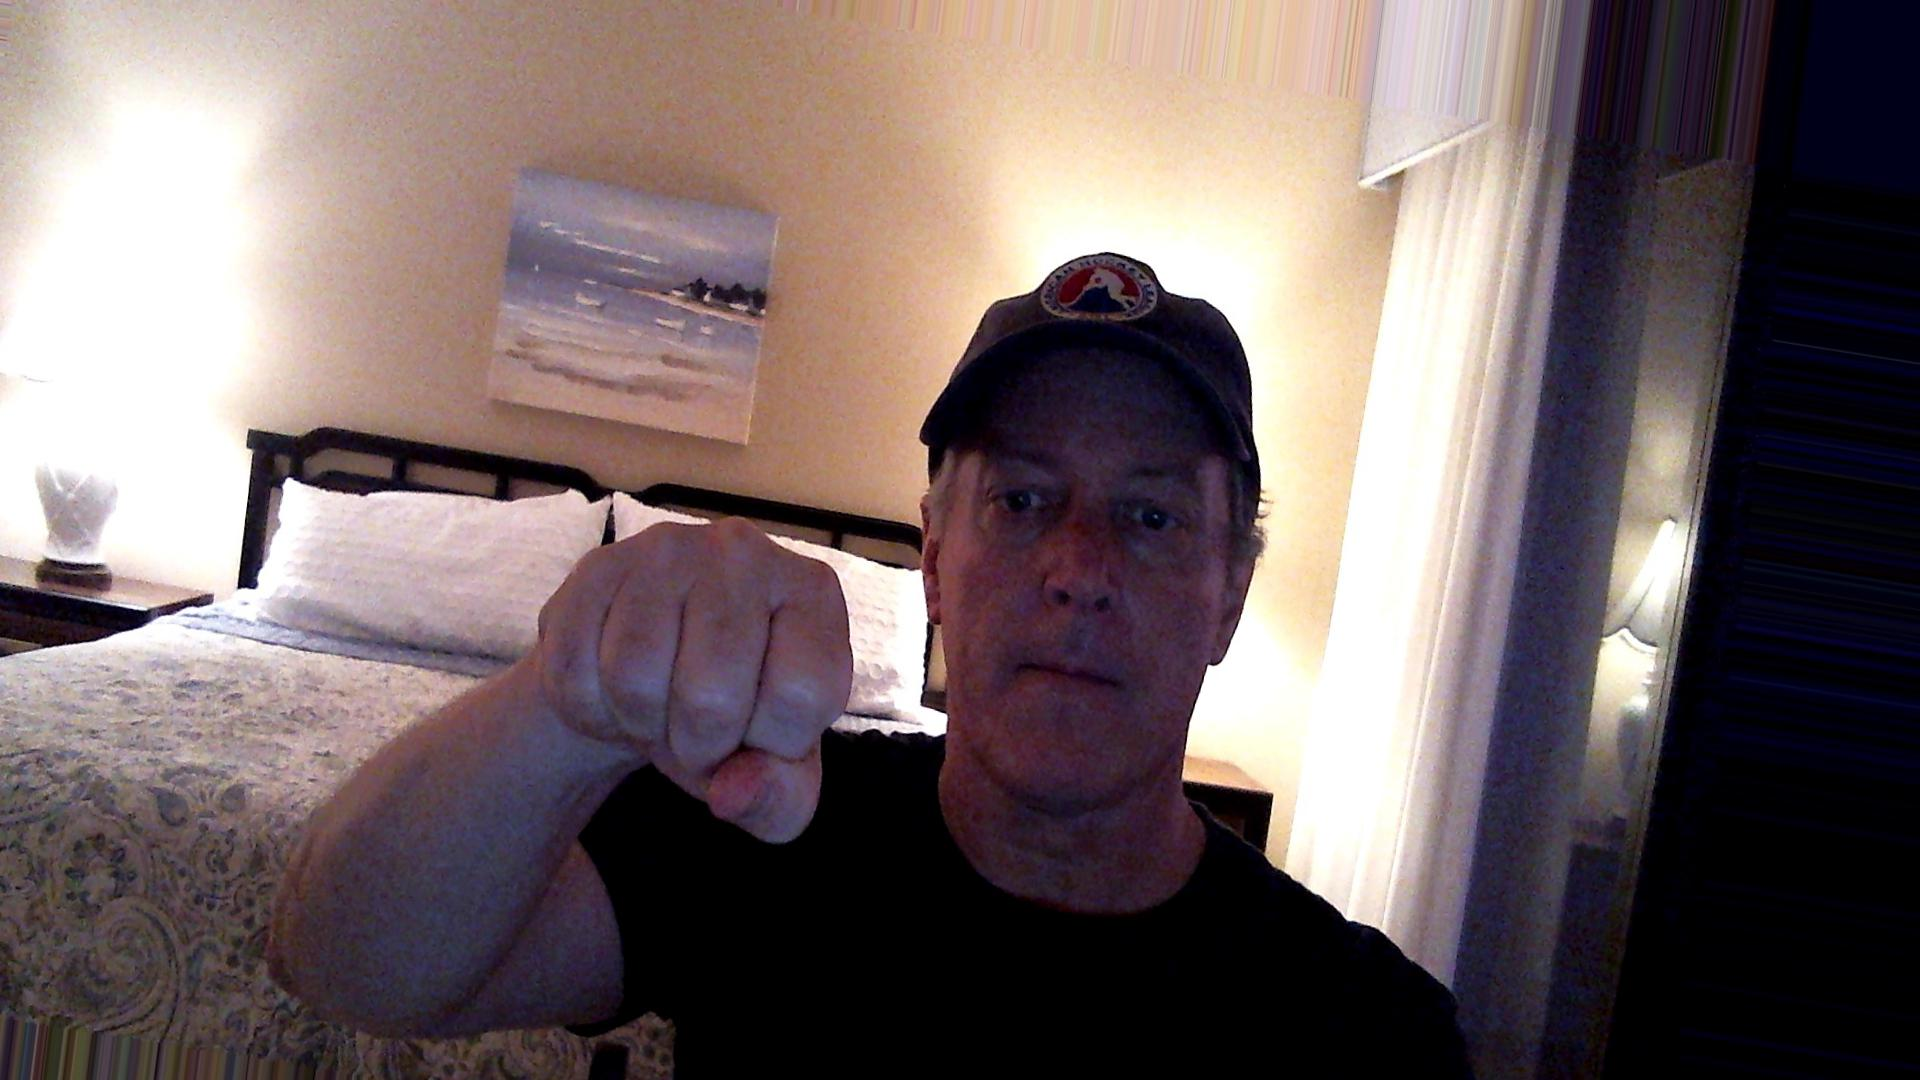Yes: (513, 500, 913, 865)
